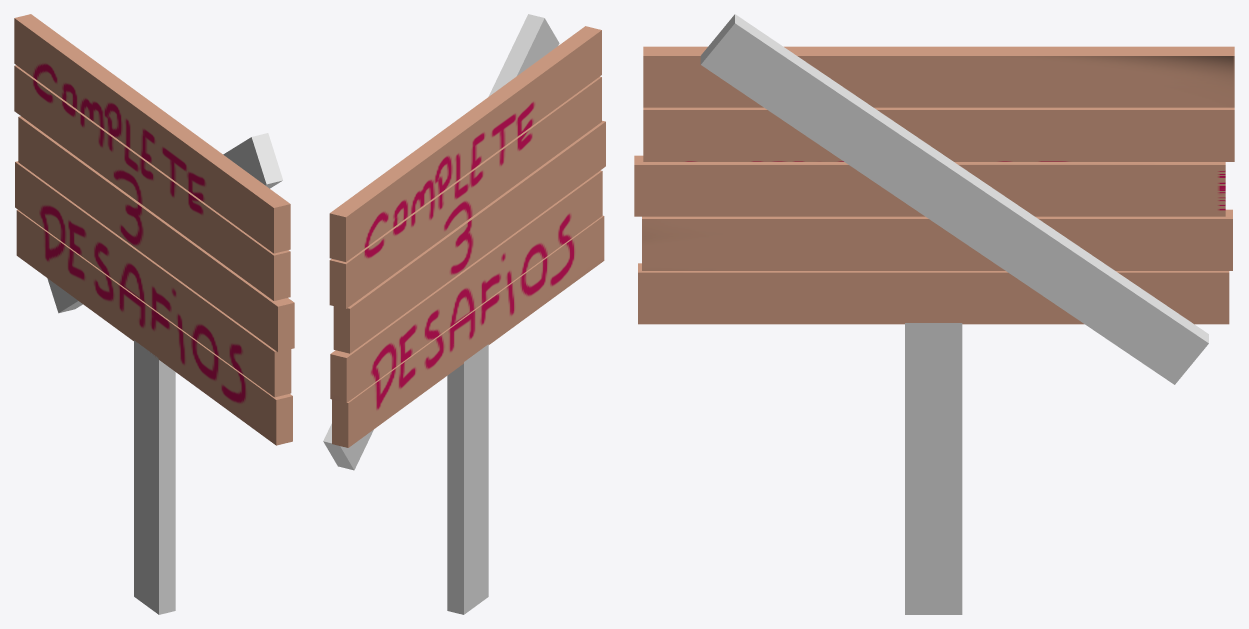
Rendered from plaquinha2.fbx.
3 renders of one model, left to right at view 1: azimuth 30°, elevation 25°; view 2: azimuth 150°, elevation 25°; view 3: azimuth 270°, elevation 25°, orthographic. The views are drawn at different scales.
Parts seen in each view (by area): view 1: Cube, Cube.006, Cube.005; view 2: Cube, Cube.006, Cube.005; view 3: Cube, Cube.005, Cube.006.
Part boxes in pixels (bbox=[...]): Cube: bbox=[14, 14, 294, 445]; Cube.006: bbox=[134, 340, 175, 614]; Cube.005: bbox=[47, 133, 282, 313]; Cube: bbox=[329, 26, 605, 447]; Cube.006: bbox=[447, 344, 488, 614]; Cube.005: bbox=[323, 14, 559, 470]; Cube: bbox=[634, 46, 1234, 324]; Cube.005: bbox=[700, 14, 1208, 384]; Cube.006: bbox=[905, 323, 962, 614].
Bounding box in the file's own units: 81.71 × 1194 × 1080.
